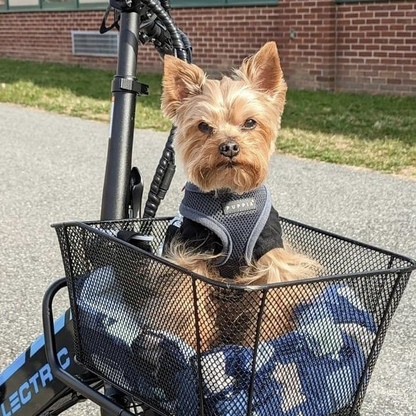yorkshire: (157, 40, 287, 190)
